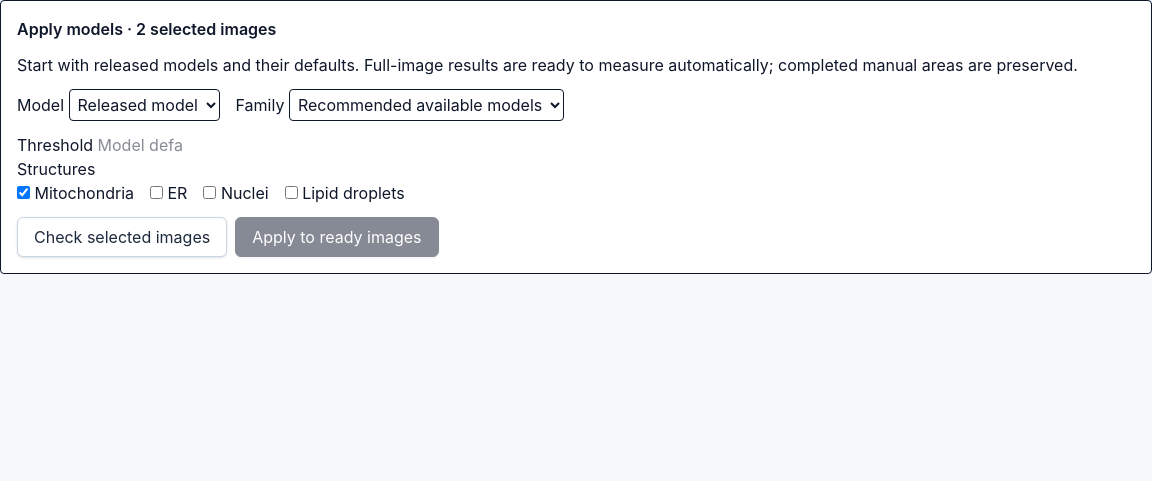
Scenario: checks a shared selection and queues ready images without annotations or unlock steps
The width and height of the screenshot is (1152, 481).
Expected: the button "Apply to ready images" is disabled, left=235, top=217, right=438, bottom=257
Step 1. Click the button "Check selected images" → (122, 237), box left=17, top=217, right=227, bottom=257
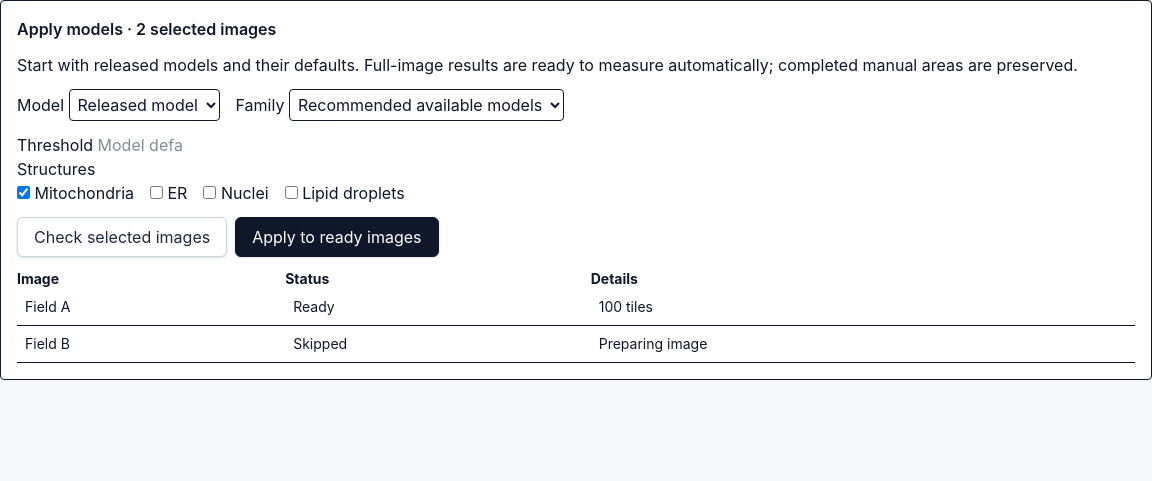
Expected: the text "Preparing image" is shown, left=591, top=326, right=1135, bottom=362
Expected: the button "Apply to ready images" is enabled
Step 2. Click the button "Apply to ready images" → (337, 237), box left=235, top=217, right=438, bottom=257
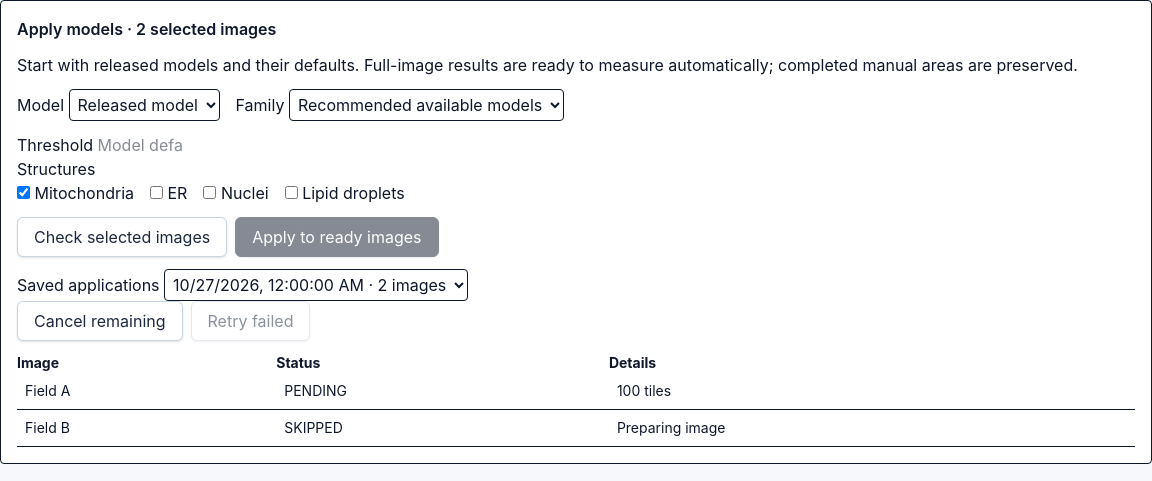
Expected: the text "PENDING" is shown, left=276, top=373, right=609, bottom=410
Expected: the button "Cancel remaining" is enabled, left=17, top=301, right=182, bottom=341
